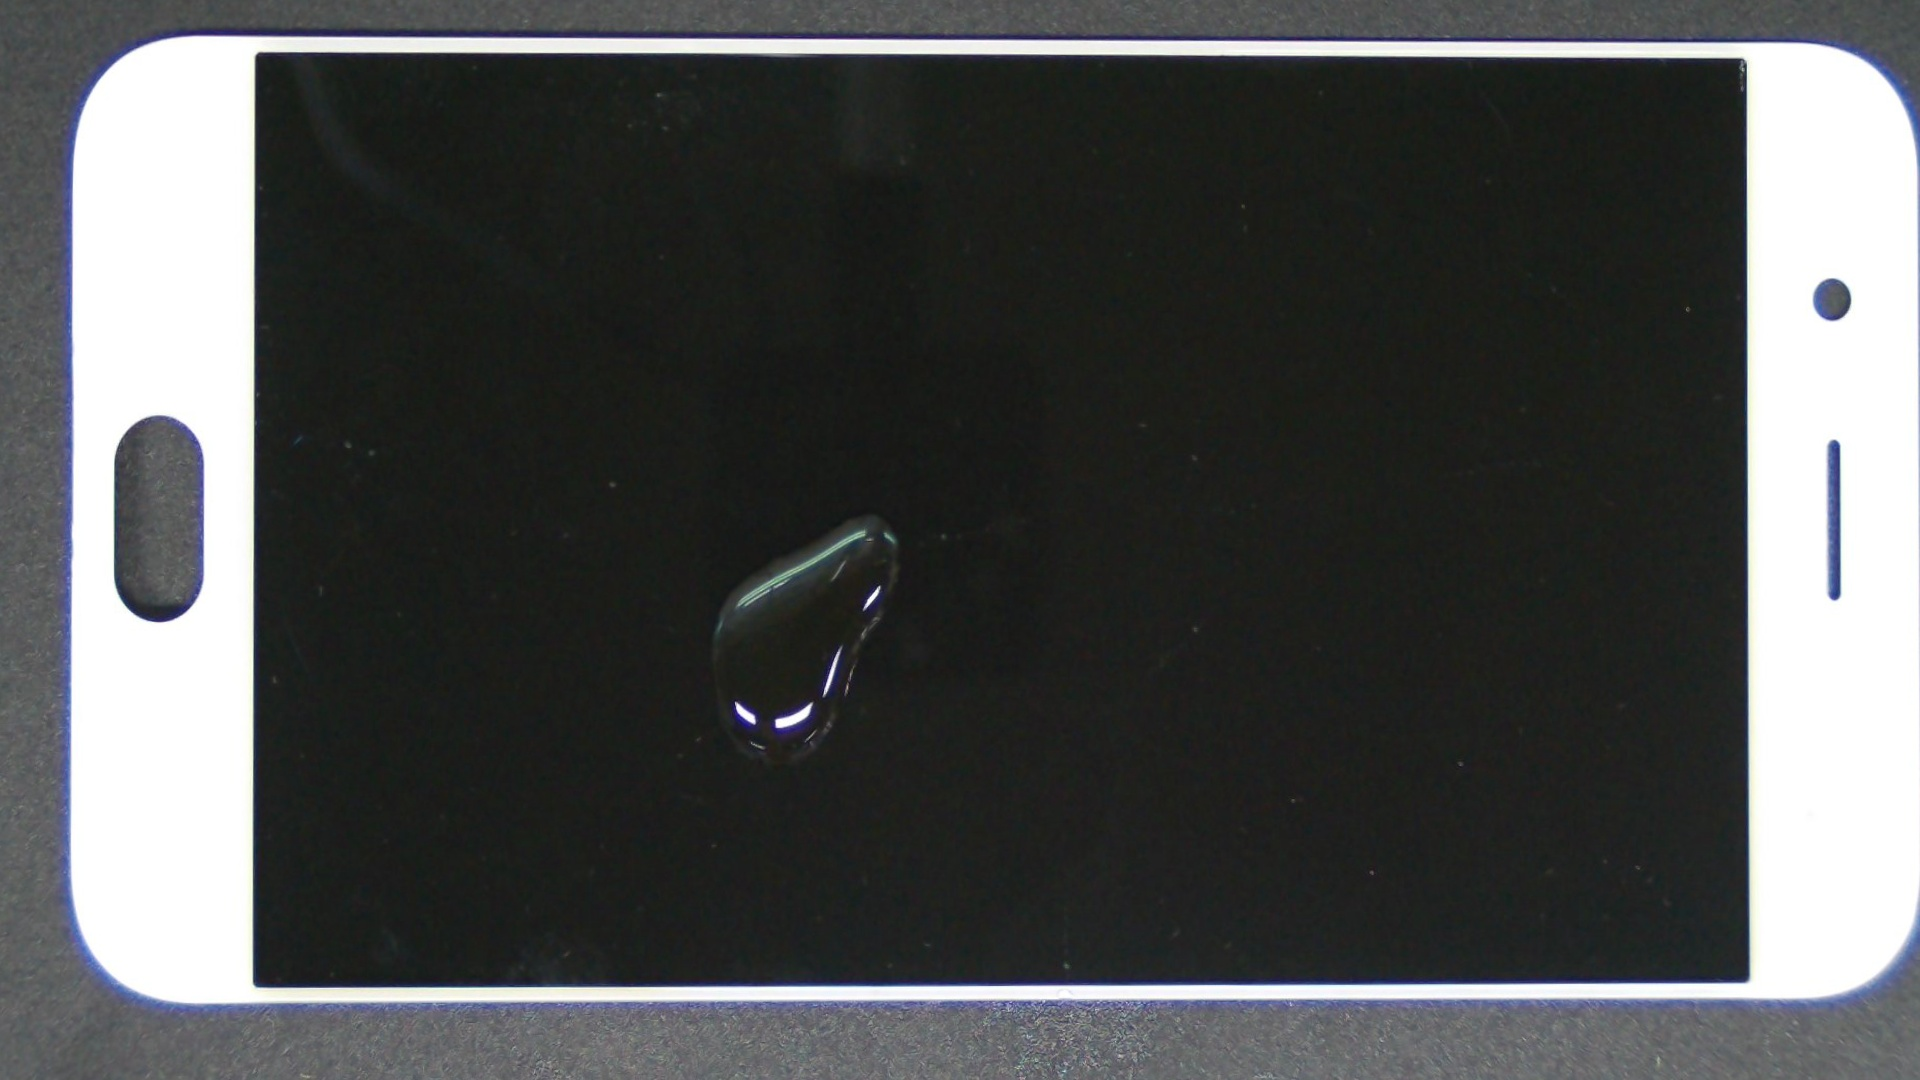oil: (422, 199, 1315, 829)
